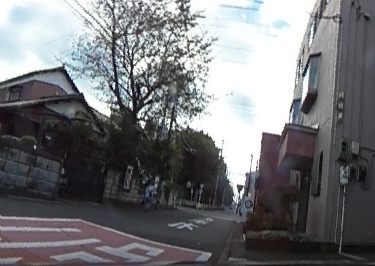person: (143, 180, 155, 212)
